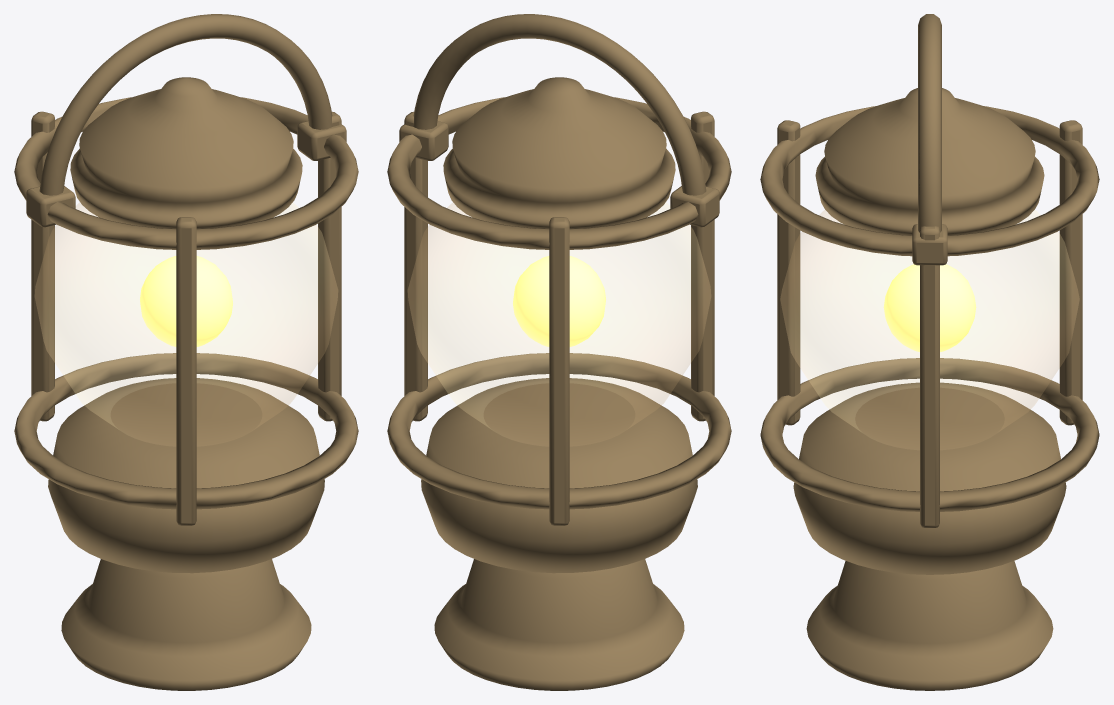
The model's file is lantern_hero_review.glb.
The picture shows the model from 3 angles, left to right: view 1: azimuth 30°, elevation 25°; view 2: azimuth 150°, elevation 25°; view 3: azimuth 270°, elevation 25°; orthographic projection.
Visible parts, largest first — view 1: lantern_hero_review; view 2: lantern_hero_review; view 3: lantern_hero_review.
Boxes of the visible parts, x1=… form: lantern_hero_review: x1=14, y1=14, x2=358, y2=690; lantern_hero_review: x1=387, y1=14, x2=731, y2=690; lantern_hero_review: x1=760, y1=14, x2=1099, y2=690.
Size of the model in its own units: 0.216 by 0.42 by 0.2105.
